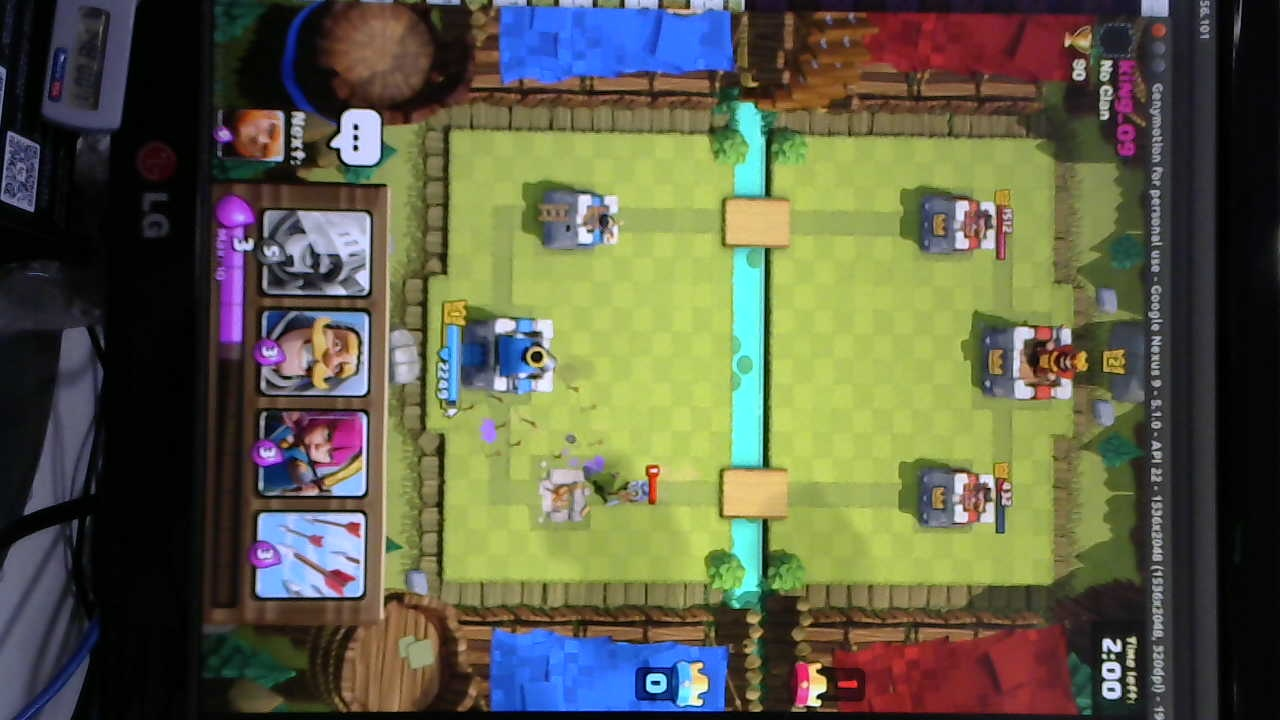arena: (538, 187, 624, 254)
darena: (532, 462, 597, 531)
earena: (922, 465, 996, 532), (922, 198, 998, 260)
eking: (986, 324, 1088, 404)
king: (466, 317, 557, 395)
musketeer: (605, 473, 658, 508)
